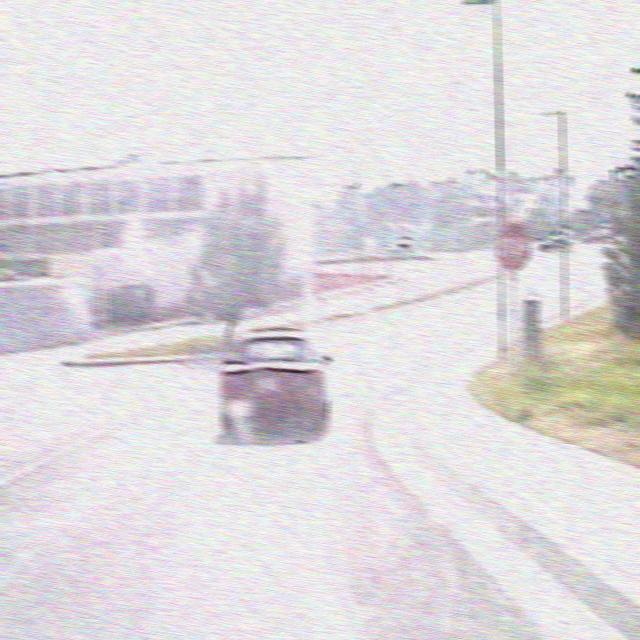stop_sign: (494, 220, 531, 271)
